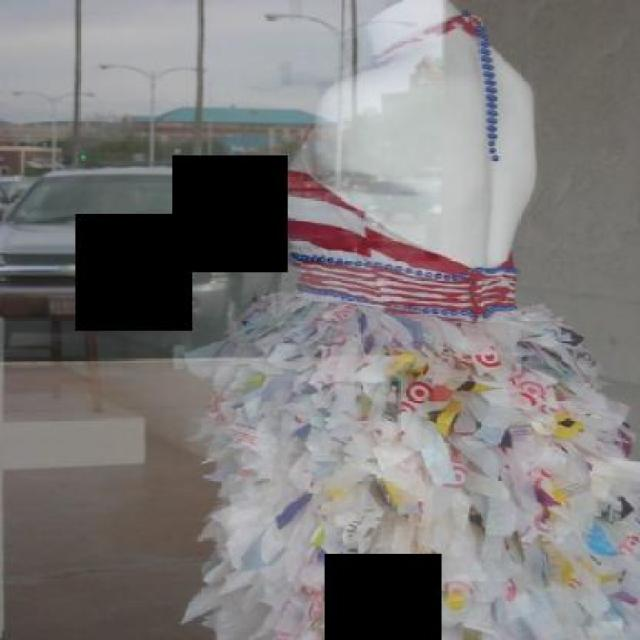plastic bag: (185, 158, 637, 640)
